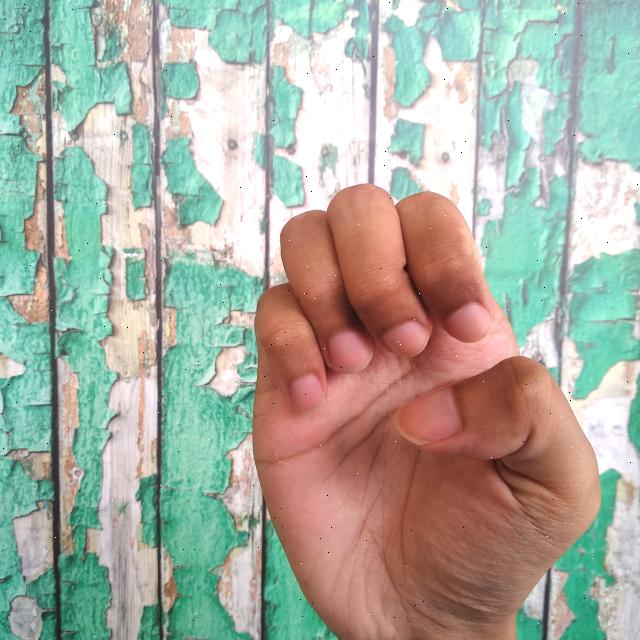E: (250, 183, 604, 640)
